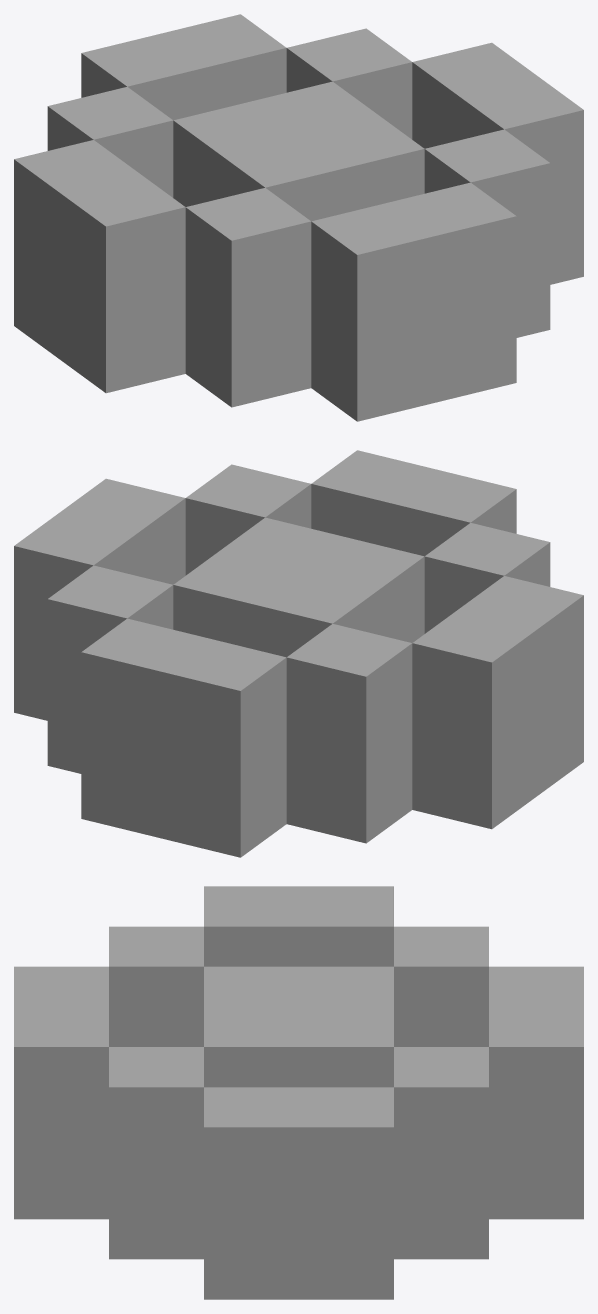
Rendered from Coins_1_Silver.obj.
3 renders of one model, top to bottom at view 1: azimuth 30°, elevation 25°; view 2: azimuth 150°, elevation 25°; view 3: azimuth 270°, elevation 25°, orthographic. The views are drawn at different scales.
Parts seen in each view (by area): view 1: Coins_1_Silver_Coins_1_Silver.001; view 2: Coins_1_Silver_Coins_1_Silver.001; view 3: Coins_1_Silver_Coins_1_Silver.001.
Boxes of the visible parts, x1,y1,x2,y2 form: Coins_1_Silver_Coins_1_Silver.001: (14, 14, 583, 421); Coins_1_Silver_Coins_1_Silver.001: (14, 450, 583, 857); Coins_1_Silver_Coins_1_Silver.001: (14, 886, 583, 1299).
Size of the model in its own units: 0.6 by 0.2 by 0.6.
1 material, 1 textured.
